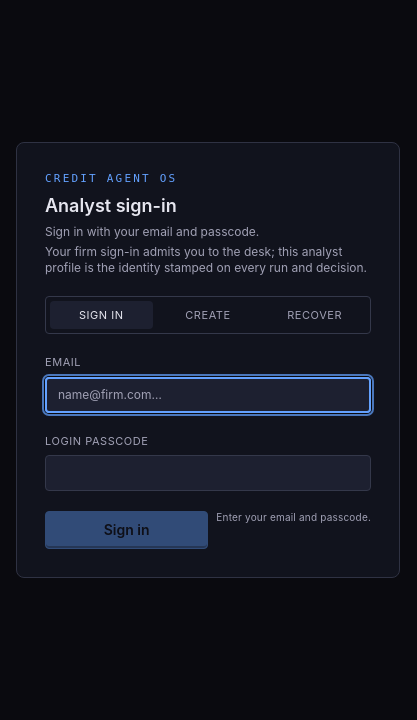
Test: LoginLanding › keeps identity values when stepping back from the security ceremony
This screenshot has width=417, height=720.
Click the tab "Create".
click(208, 315)  # box [157,300,259,329]
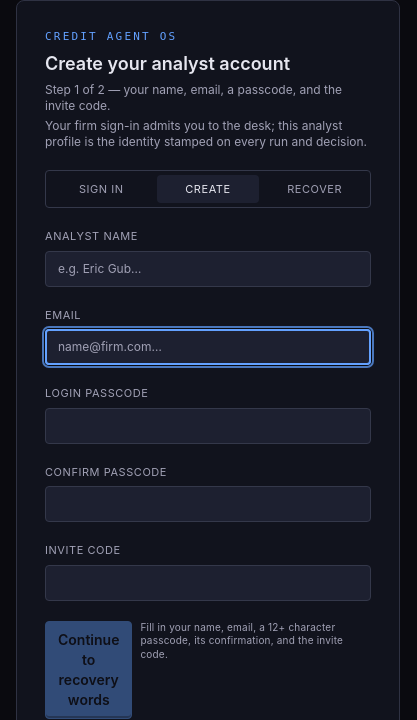
Type "Ada Credit" into the field labelled "Analyst name".
click(208, 268); type("Ada Credit")  # box [45,250,371,286]
Type "ada@desk.test" into the field labelled "Email".
click(208, 347); type("ada@desk.test")  # box [45,329,371,365]
Type "long-passcode" into the password field labelled "Login passcode".
click(208, 426); type("long-passcode")  # box [45,408,371,444]
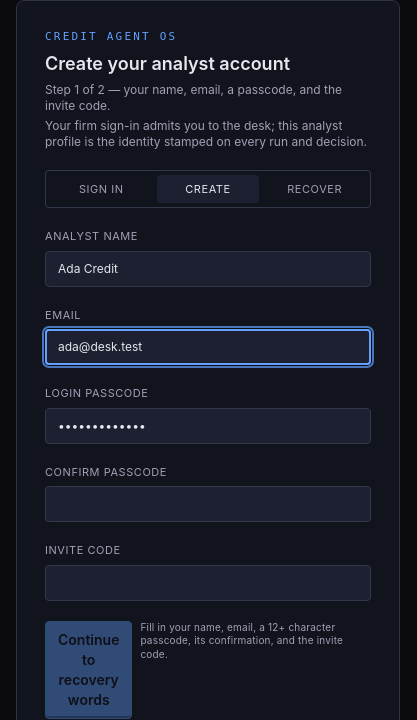
Type "long-passcode" into the password field labelled "Confirm passcode".
click(208, 504); type("long-passcode")  # box [45,486,371,522]
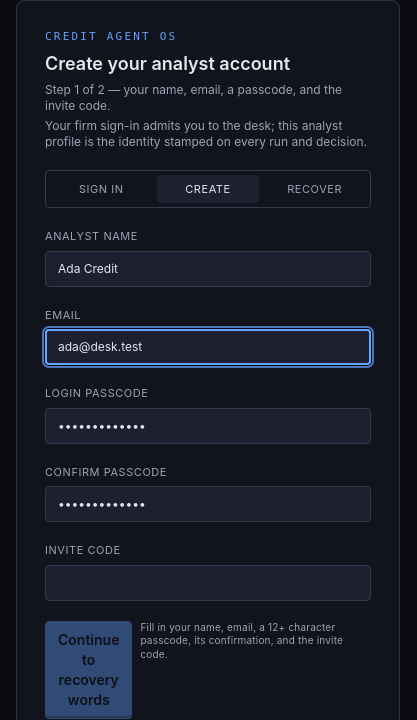
Type "1234" into the password field labelled "Invite code".
click(208, 582); type("1234")  # box [45,564,371,600]
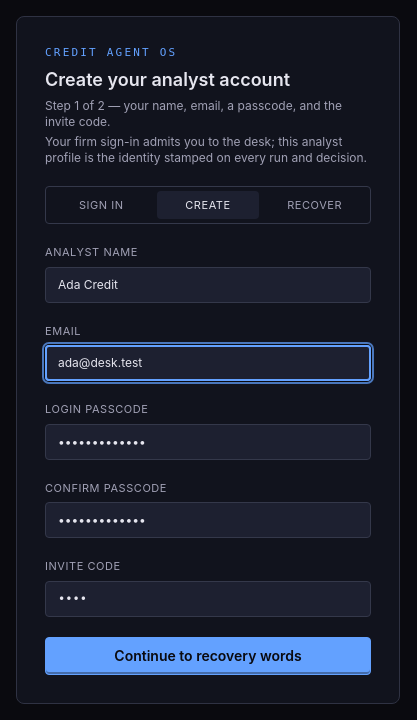
Click the button "Continue to recovery words".
click(208, 656)  # box [45,637,371,675]
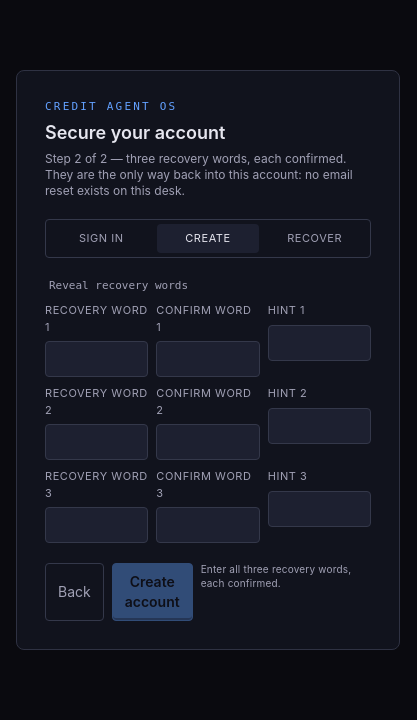
Click the button "Back".
click(74, 592)  # box [45,563,104,621]
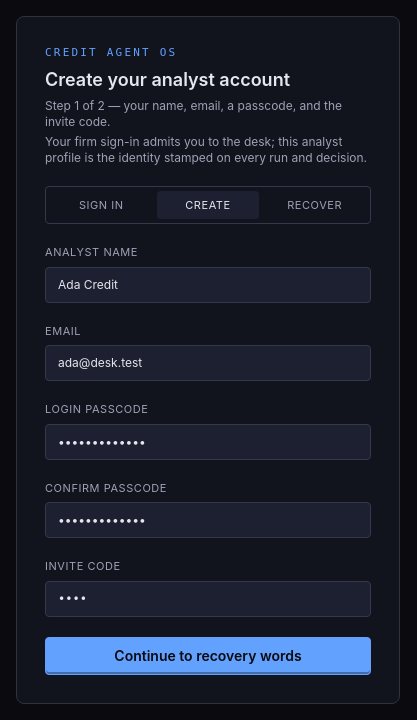
Now the field labelled "Analyst name" holds "Ada Credit", box [45,267,371,303]
Now the password field labelled "Invite code" holds "1234", box [45,581,371,617]
